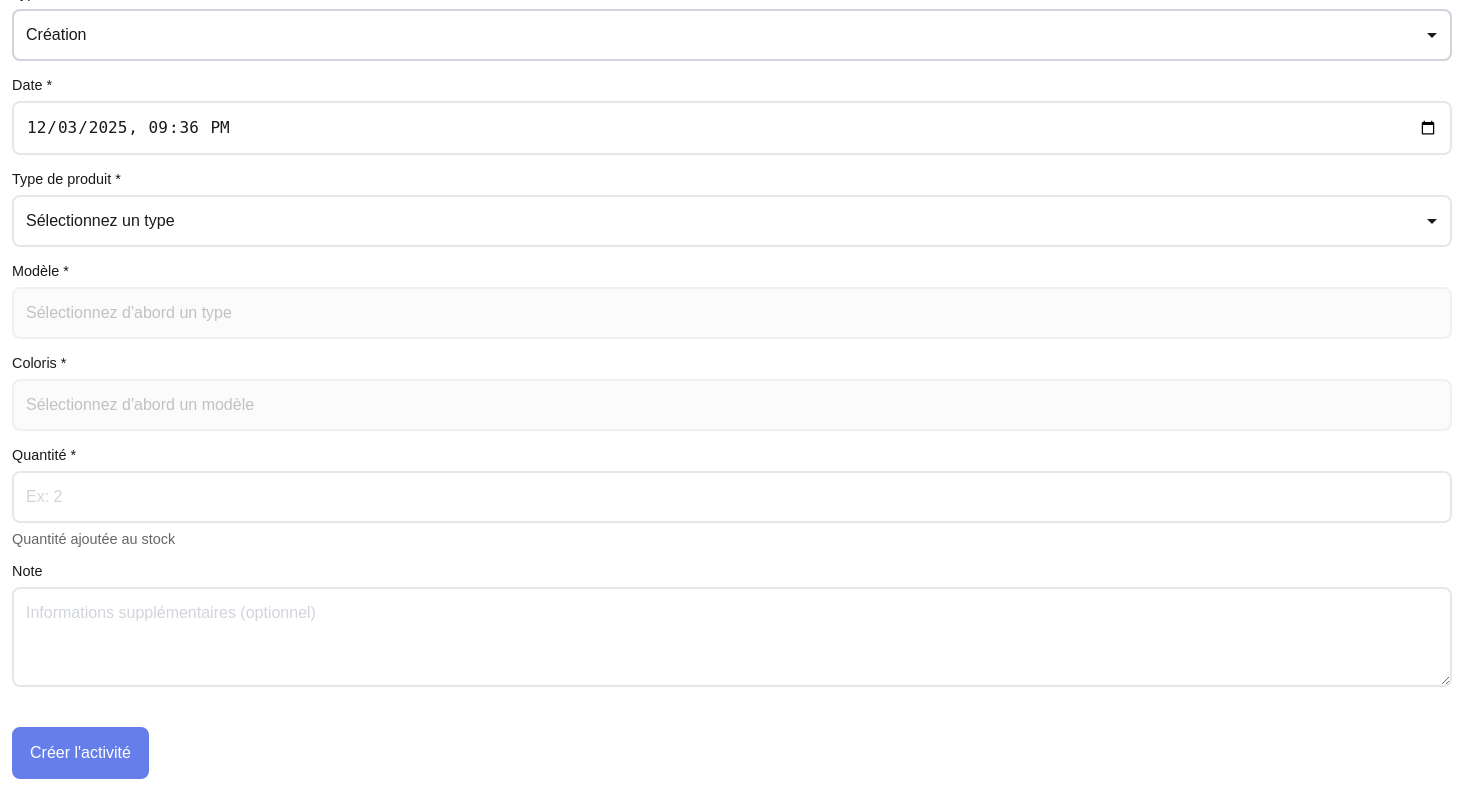
AddActivityForm Component › Rendering › should render STOCK_CORRECTION fields when STOCK_CORRECTION type selected
The image size is (1464, 795).
Select "Correction de stock" in the dropdown labelled "Type d'activité *" at (732, 35), box x1=12 y1=9 x2=1452 y2=61
(page scrolled)
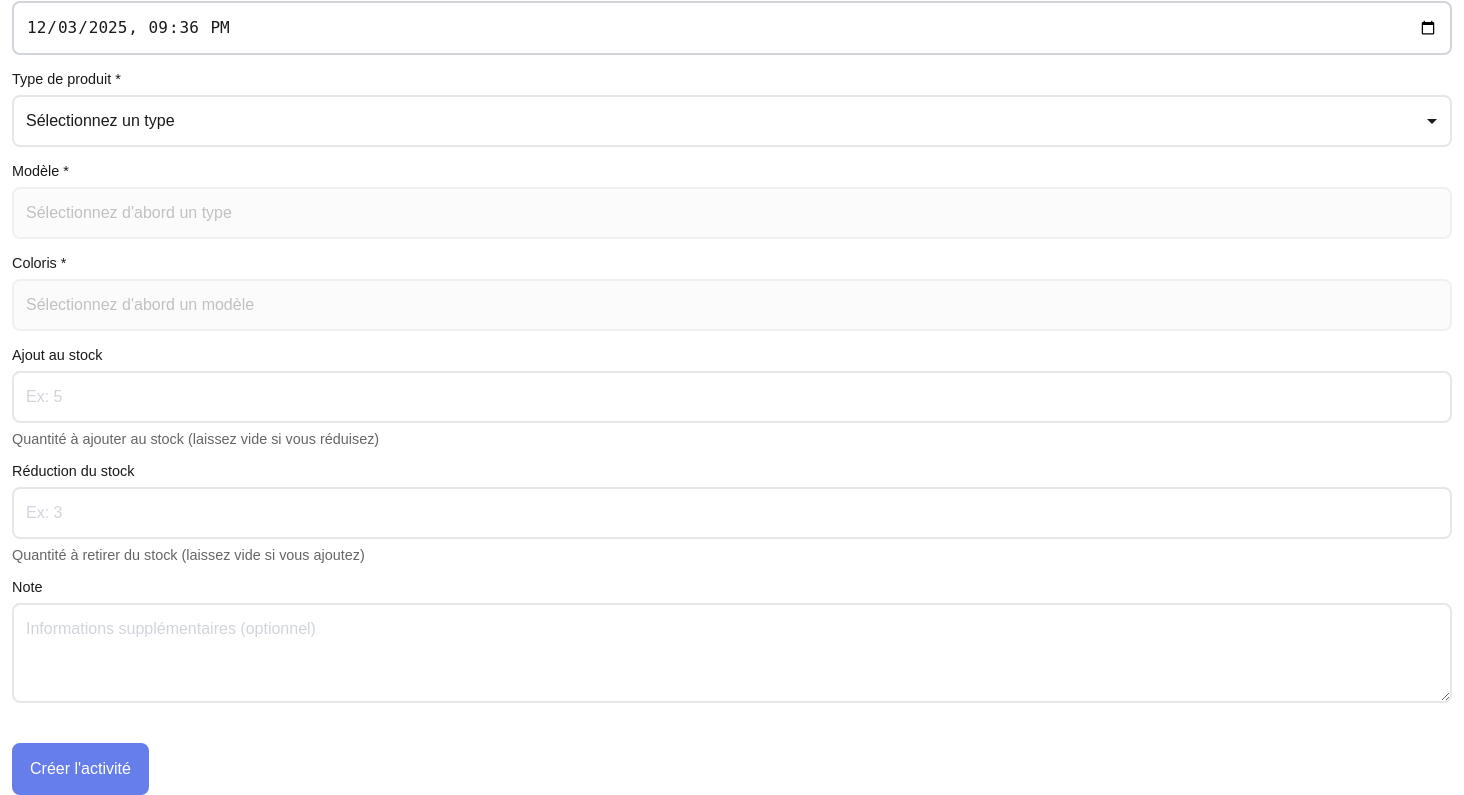
Expected: the dropdown labelled "Type de produit *" is shown, x1=12 y1=95 x2=1452 y2=147
Expected: the number field labelled "Ajout au stock" is shown, x1=12 y1=371 x2=1452 y2=423
Expected: the number field labelled "Réduction du stock" is shown, x1=12 y1=487 x2=1452 y2=539
